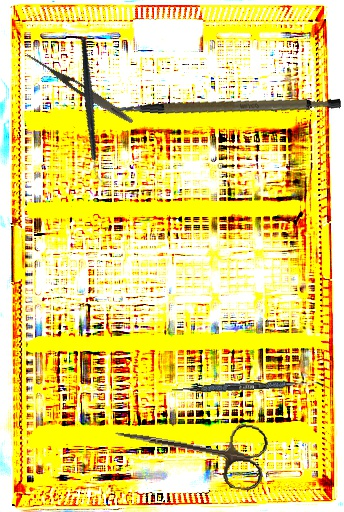Chopper: (45, 36, 141, 185)
Dressing Forceps: (23, 50, 136, 127)
Iris Scissors: (109, 404, 271, 493)
Scalpel Handle: (115, 68, 342, 140)
Spatula Surgical: (171, 376, 323, 397)
